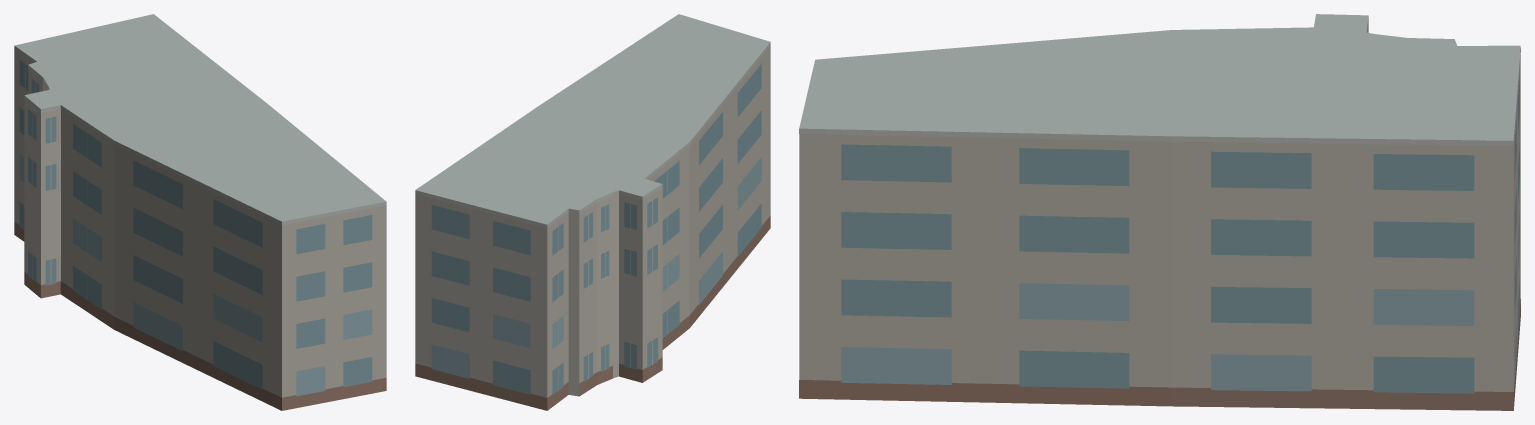
Rendered from survey-upis-32758071.glb.
3 views of the same model, side by side, from view 1: azimuth 30°, elevation 25°; view 2: azimuth 150°, elevation 25°; view 3: azimuth 270°, elevation 25° (orthographic). The views are drawn at different scales.
Visible parts, largest first — view 1: survey-upis-32758071.tmp; view 2: survey-upis-32758071.tmp; view 3: survey-upis-32758071.tmp.
Boxes of the visible parts, box(x1,y1,x2,y2) form: survey-upis-32758071.tmp: box(14, 14, 386, 410); survey-upis-32758071.tmp: box(415, 14, 770, 410); survey-upis-32758071.tmp: box(799, 14, 1520, 410).
Size of the model in its own units: 12.5 by 12.4 by 30.04.
